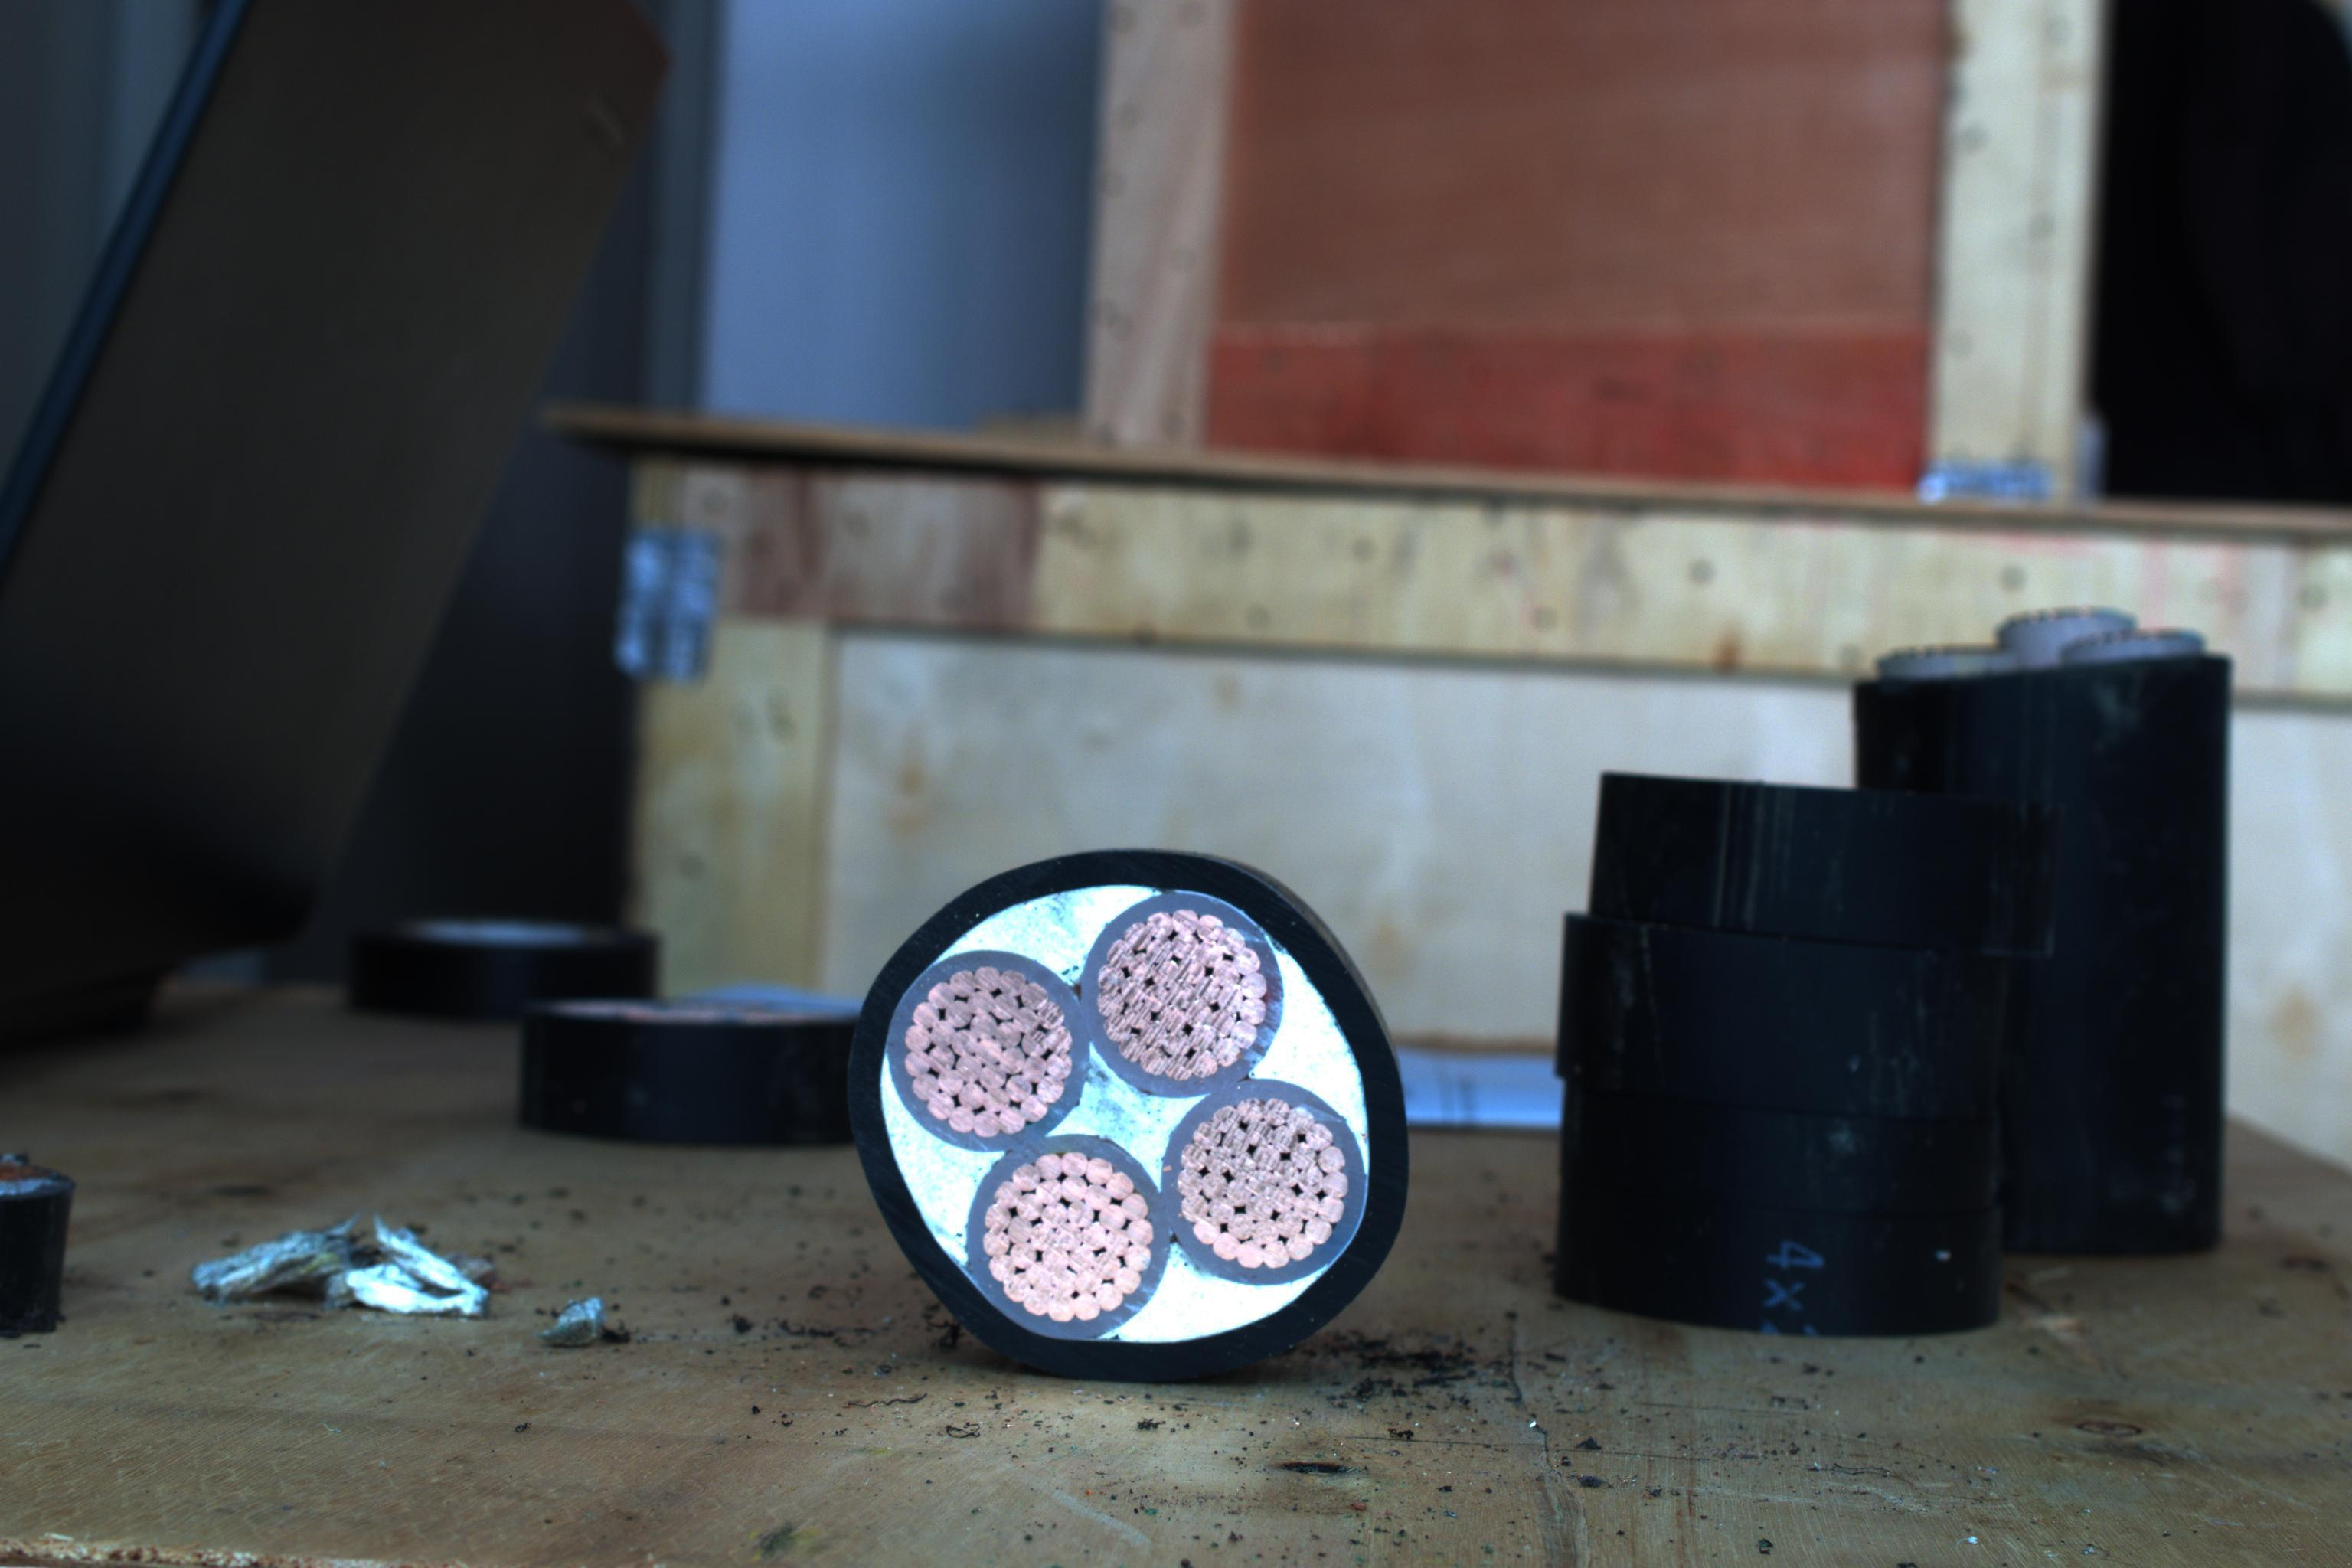YJV_0.6_1kV_4x240: (824, 856, 1414, 1372)
